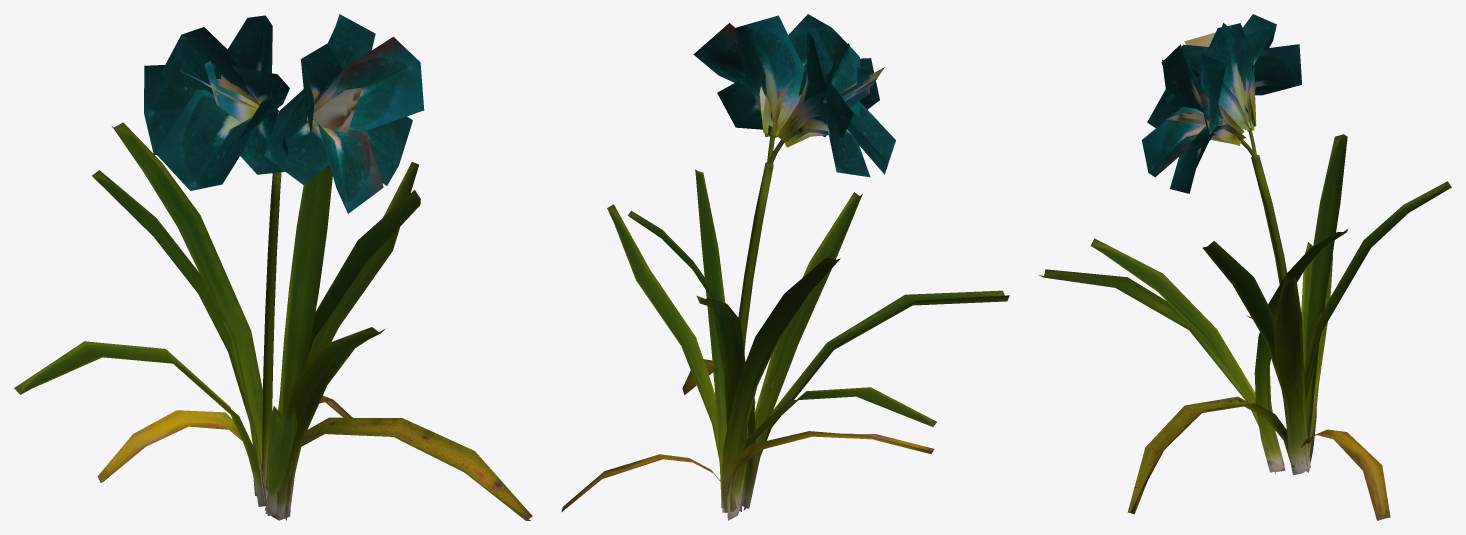
The model's file is Amaryllis_OG_normal_cyan.glb.
3 views of the same model, side by side, from view 1: azimuth 30°, elevation 25°; view 2: azimuth 150°, elevation 25°; view 3: azimuth 270°, elevation 25° (orthographic). The views are drawn at different scales.
Parts seen in each view (by area): view 1: og; view 2: og; view 3: og.
Boxes of the visible parts, bbox=[...] form: og: bbox=[14, 14, 532, 520]; og: bbox=[561, 14, 1009, 520]; og: bbox=[1039, 14, 1451, 520].
Bounding box in the file's own units: 1.36 × 1.74 × 1.51.
Materials: 1 (1 with a texture image).
